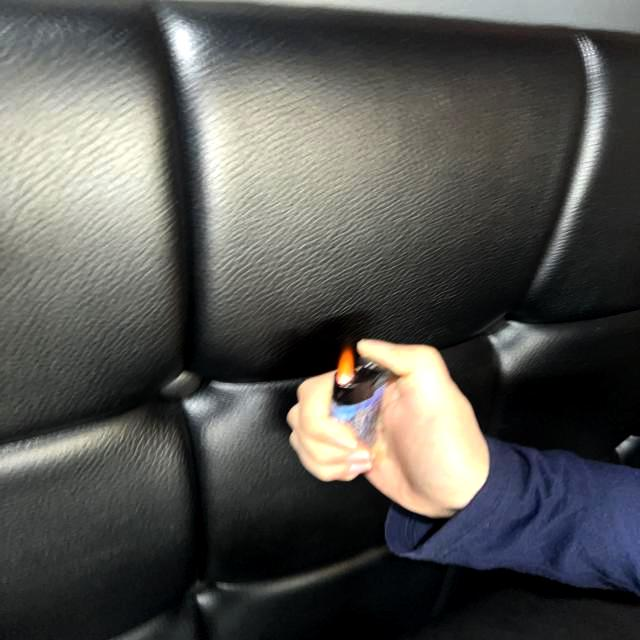fire: (337, 346, 355, 388)
